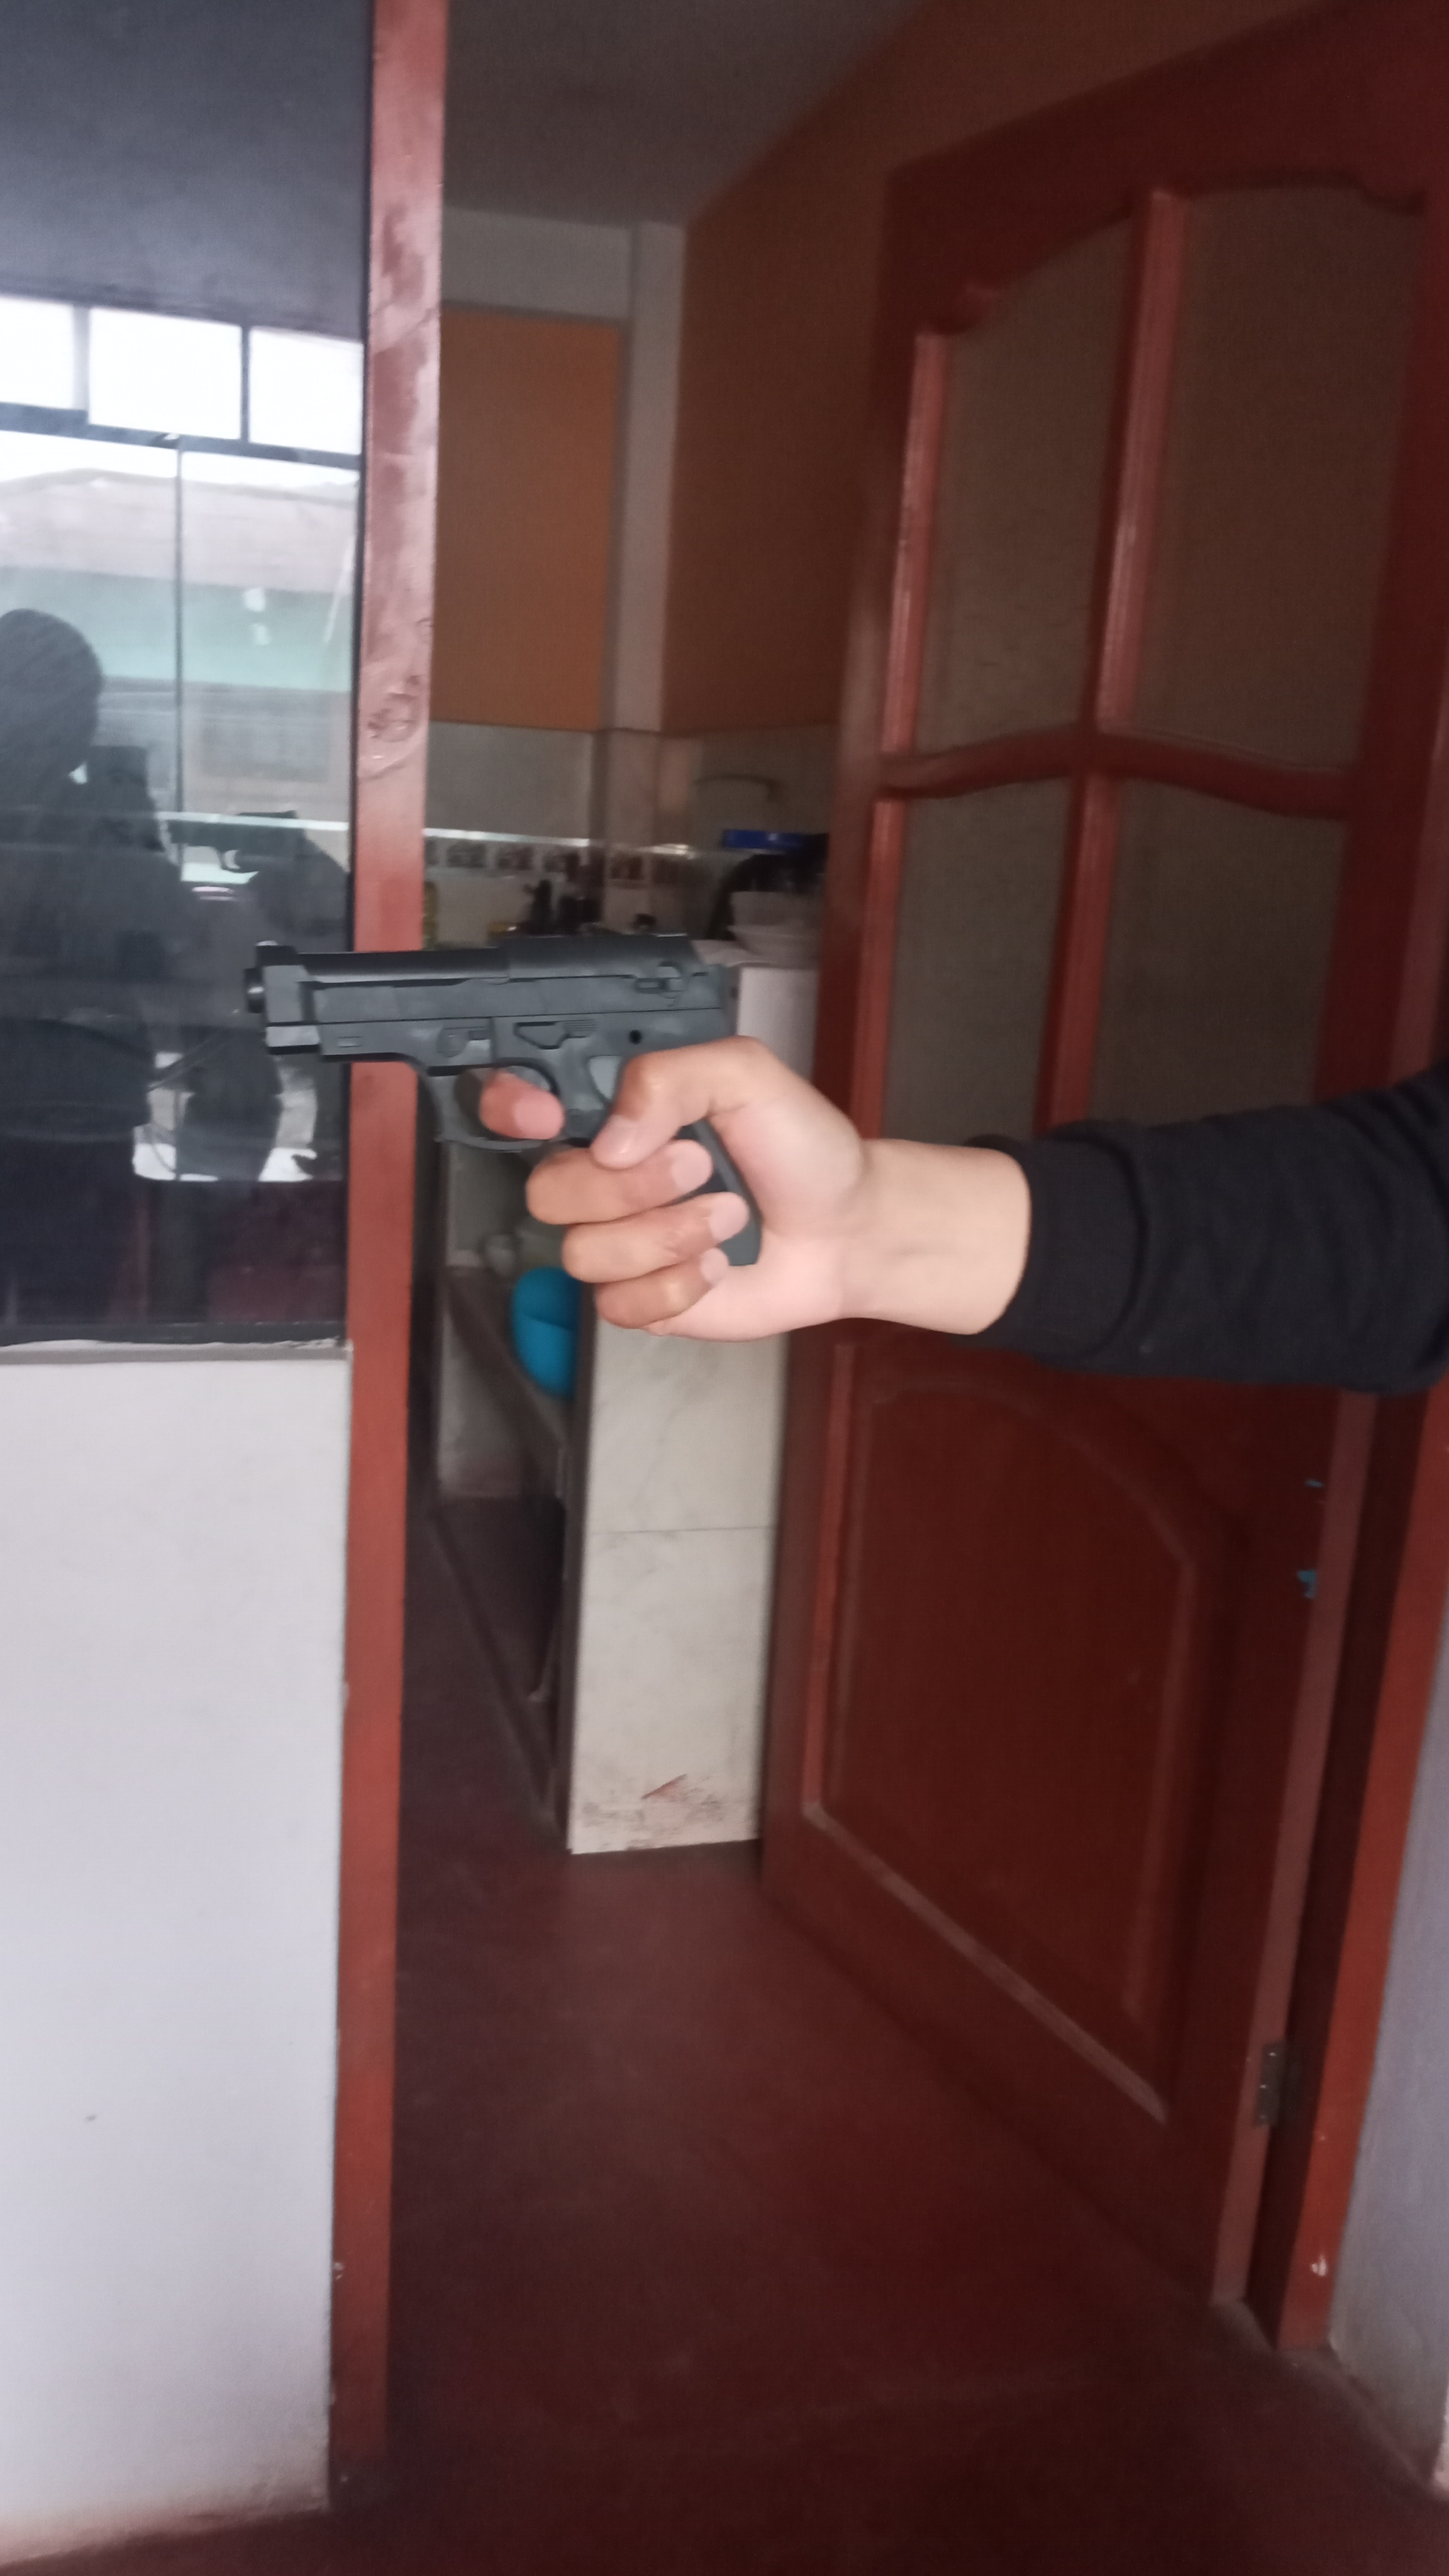Arma: (246, 934, 750, 1102)
